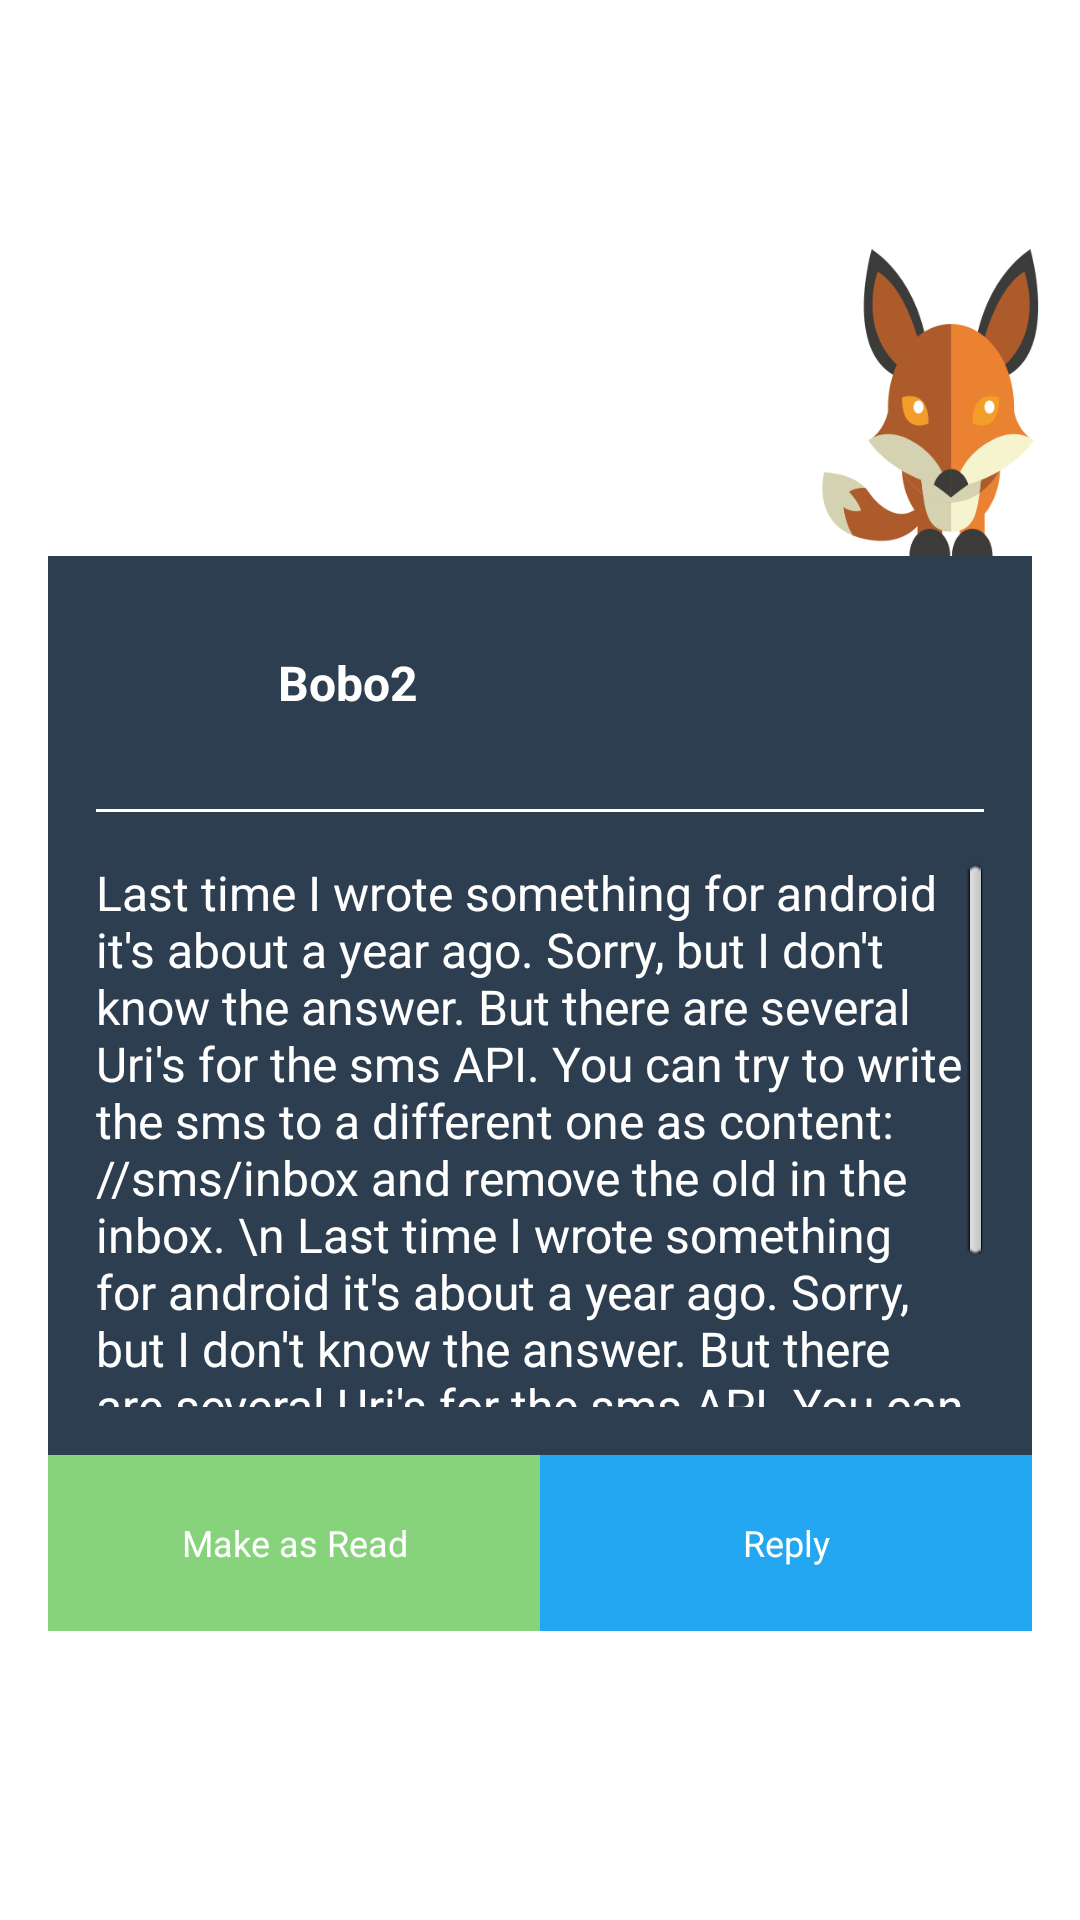

Locate icon controls on the screen. Image size 1080 x 1920, boxes as [left=x1, top=y1, right=x2, bottom=y2].
cao: [left=822, top=249, right=1038, bottom=556]
